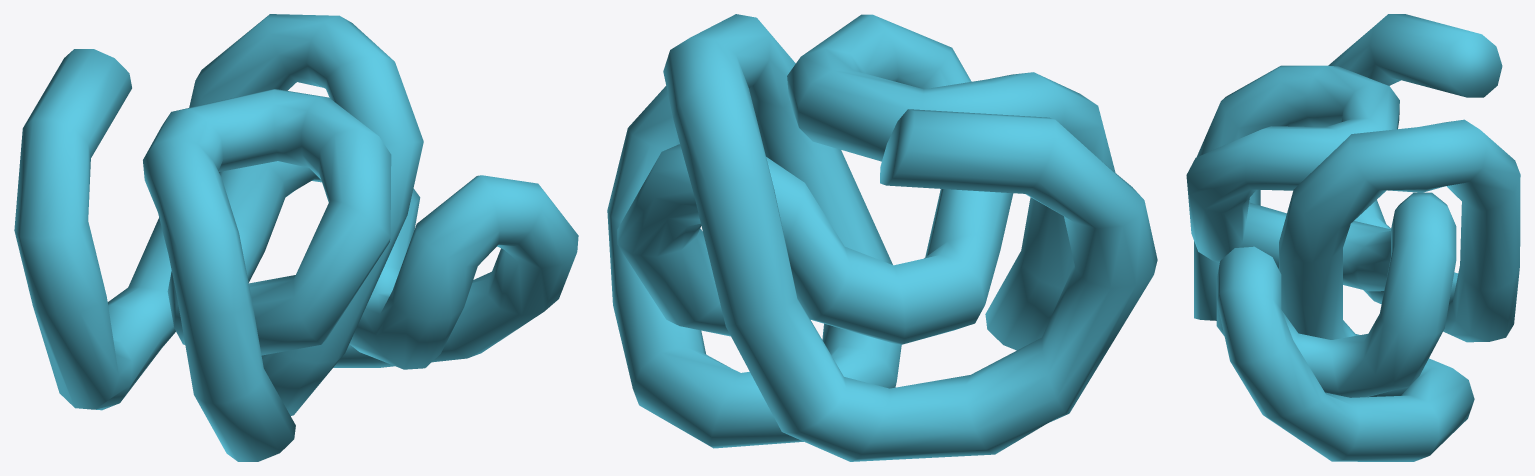
The model's file is SM_Giblets_Intestines.FBX.
The picture shows the model from 3 angles, left to right: view 1: azimuth 30°, elevation 25°; view 2: azimuth 150°, elevation 25°; view 3: azimuth 270°, elevation 25°; orthographic projection. The views are drawn at different scales.
Visible parts, largest first — view 1: Intestines; view 2: Intestines; view 3: Intestines.
Part boxes in pixels (box(x1,y1,x2,y2)): Intestines: box(14, 14, 578, 461); Intestines: box(607, 14, 1157, 461); Intestines: box(1186, 14, 1520, 461).
Size of what is drawn, in the model's own units: 27.48 by 18.4 by 17.67.
